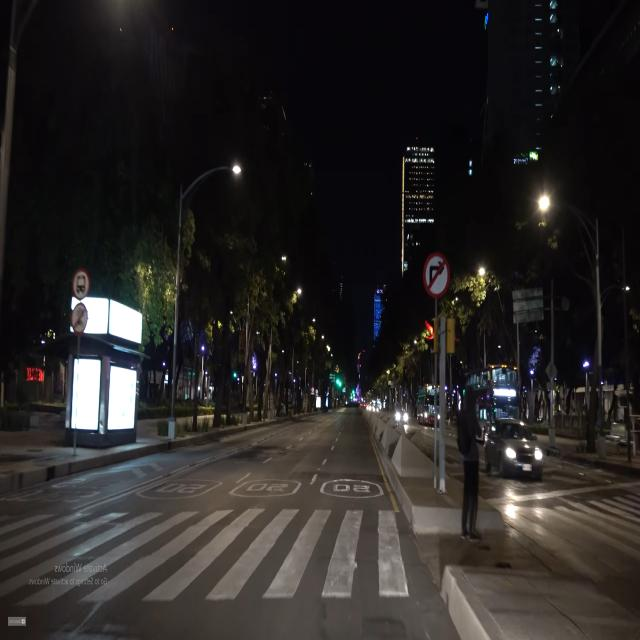headlights: (501, 442, 547, 474)
